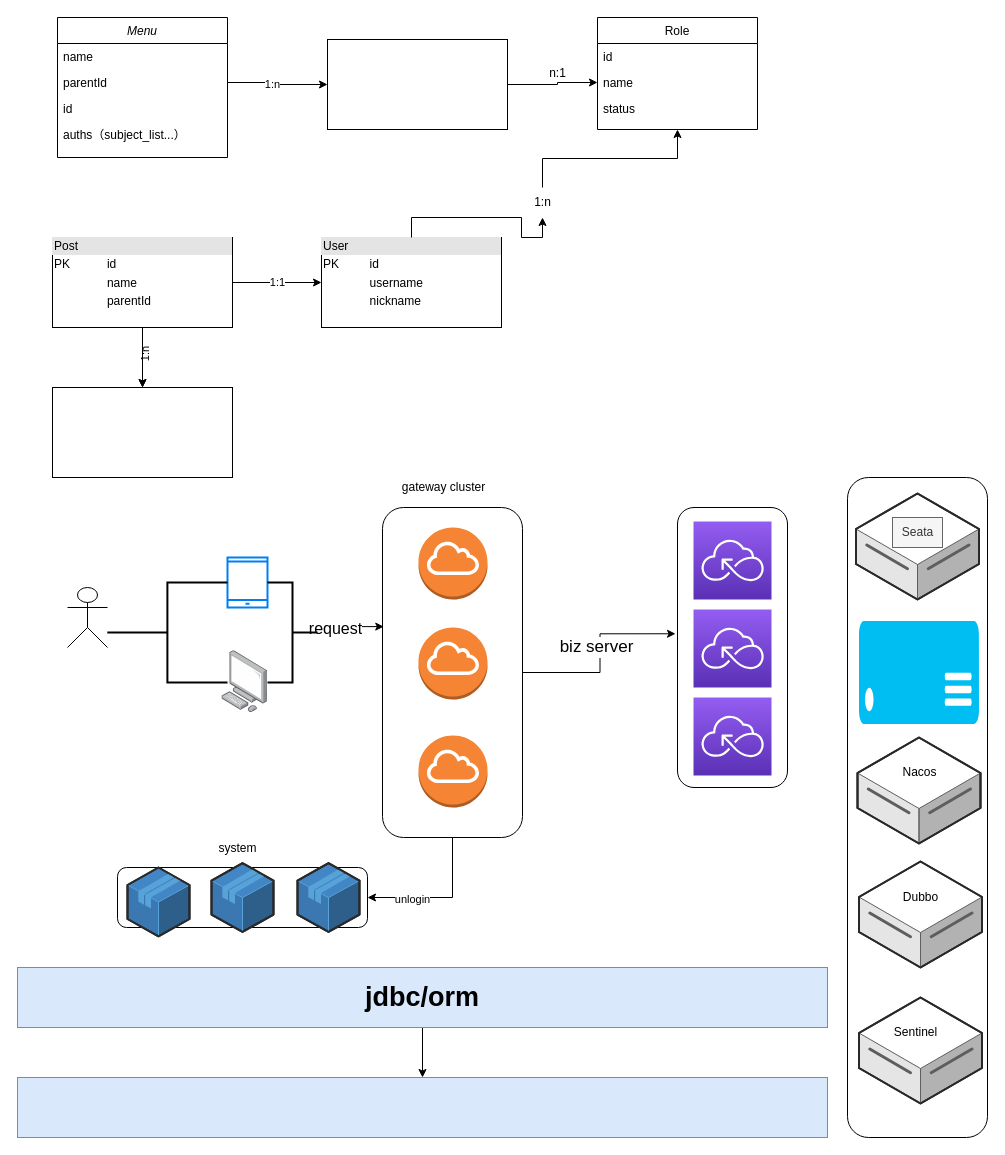
The diagram is 1005 pixels wide and 1155 high, and some of its shapes have lost their labels. Each missing label, with the centre of its shape:
"database" goes at pixel 422 1107.
"Dept PK id name parentId" goes at pixel 142 432.
"MenuRole roleId MenuId" goes at pixel 417 84.
"User" goes at pixel 87 617.
